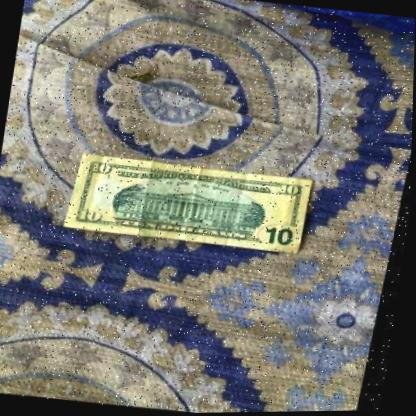ten-back: (67, 149, 318, 260)
